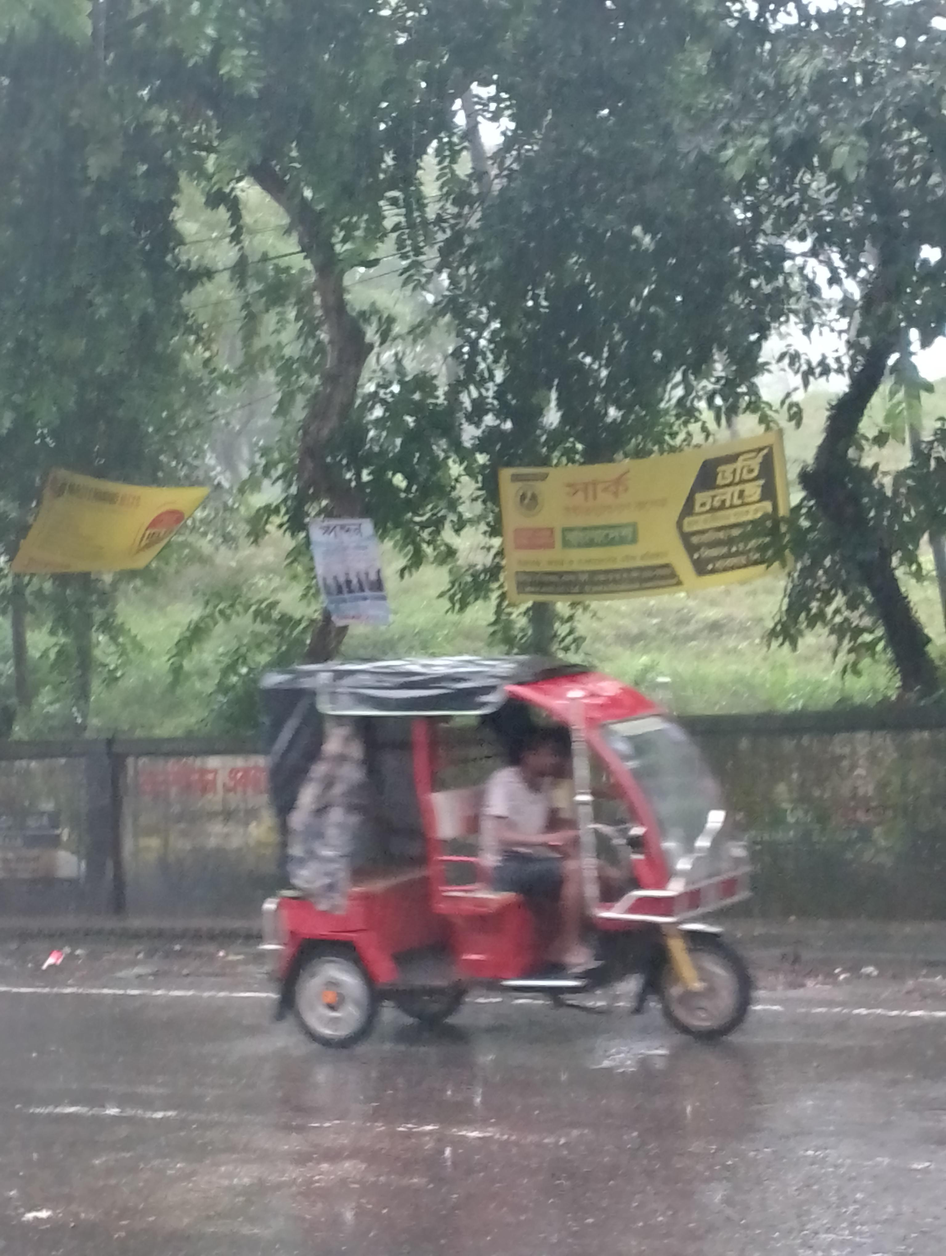Car: (202, 622, 790, 1088)
